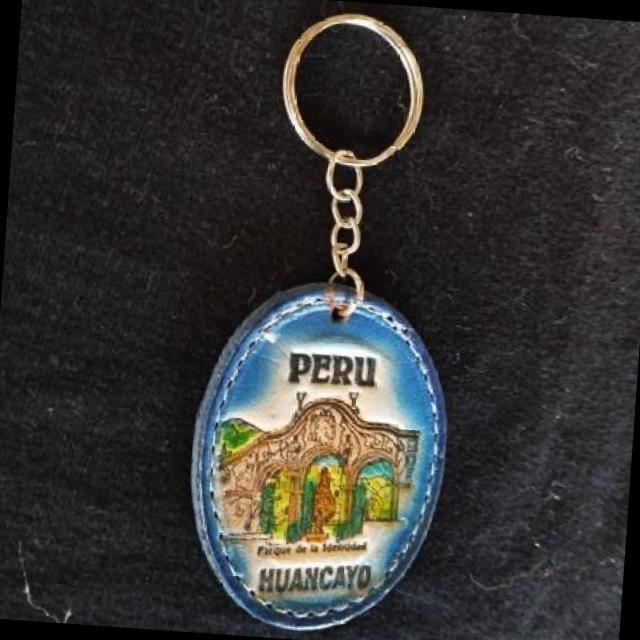Llavero: (177, 272, 458, 640)
